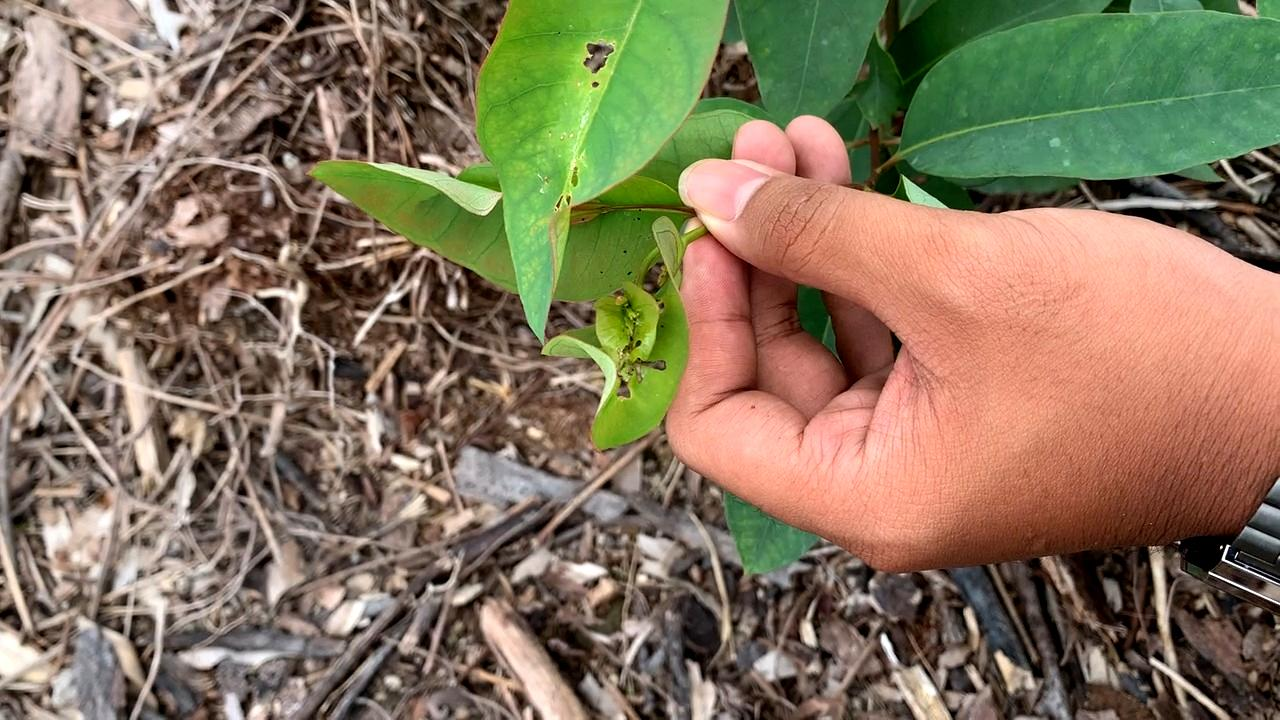Leaf Roller - Leaf: (568, 280, 685, 434)
